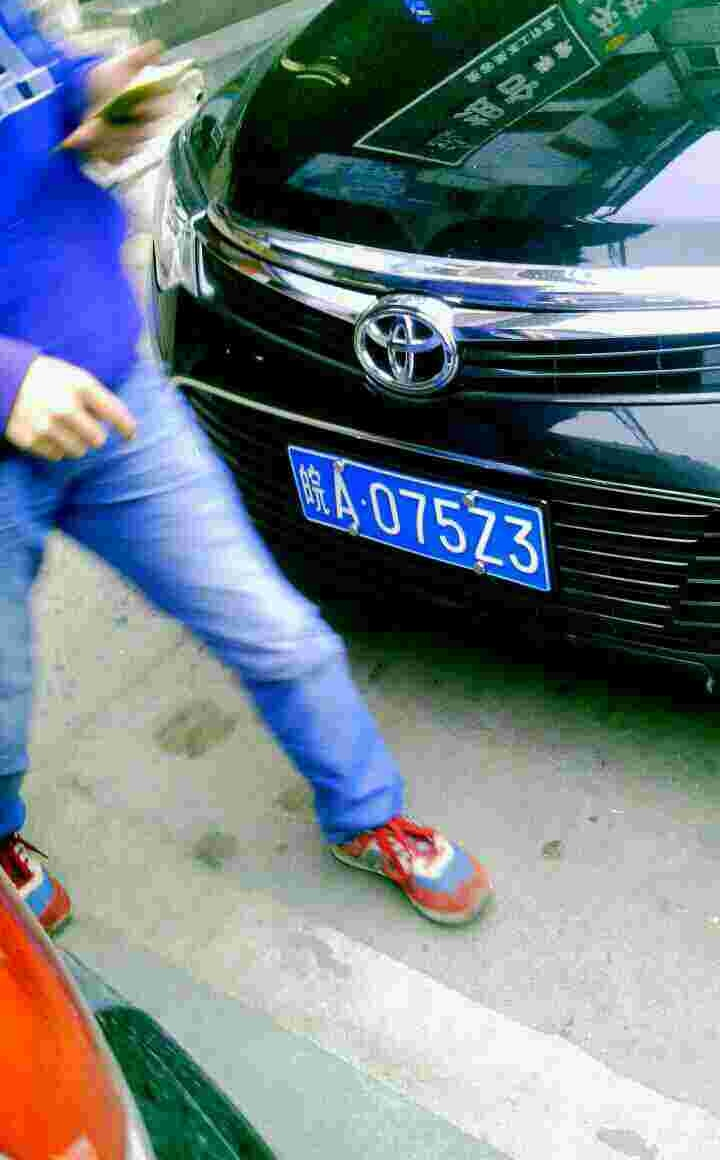license_plate: (291, 433, 552, 596)
